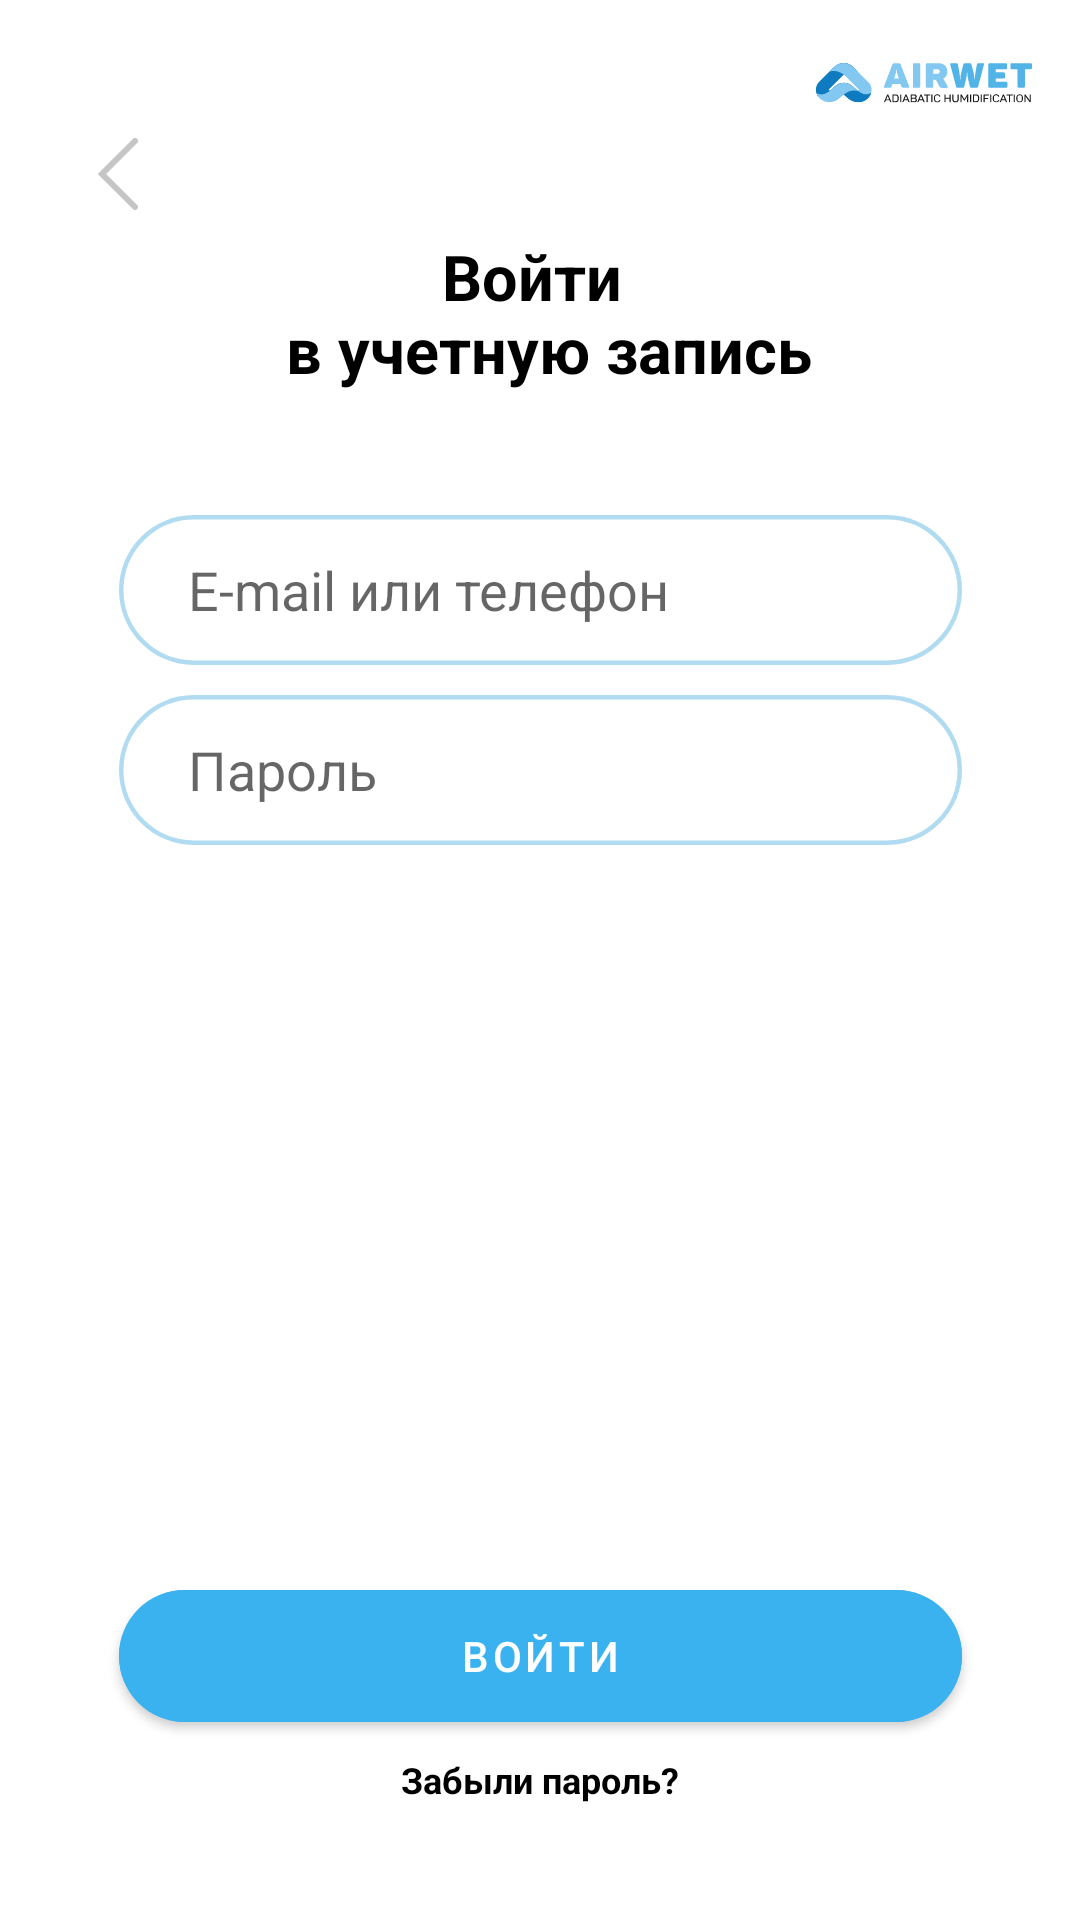

Icons on this 1080px×1920px Android screen, each with the point to tap as (x,y):
Back: (118,174)
